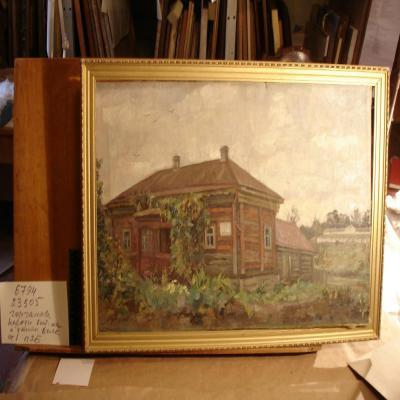painting: (78, 60, 390, 353)
